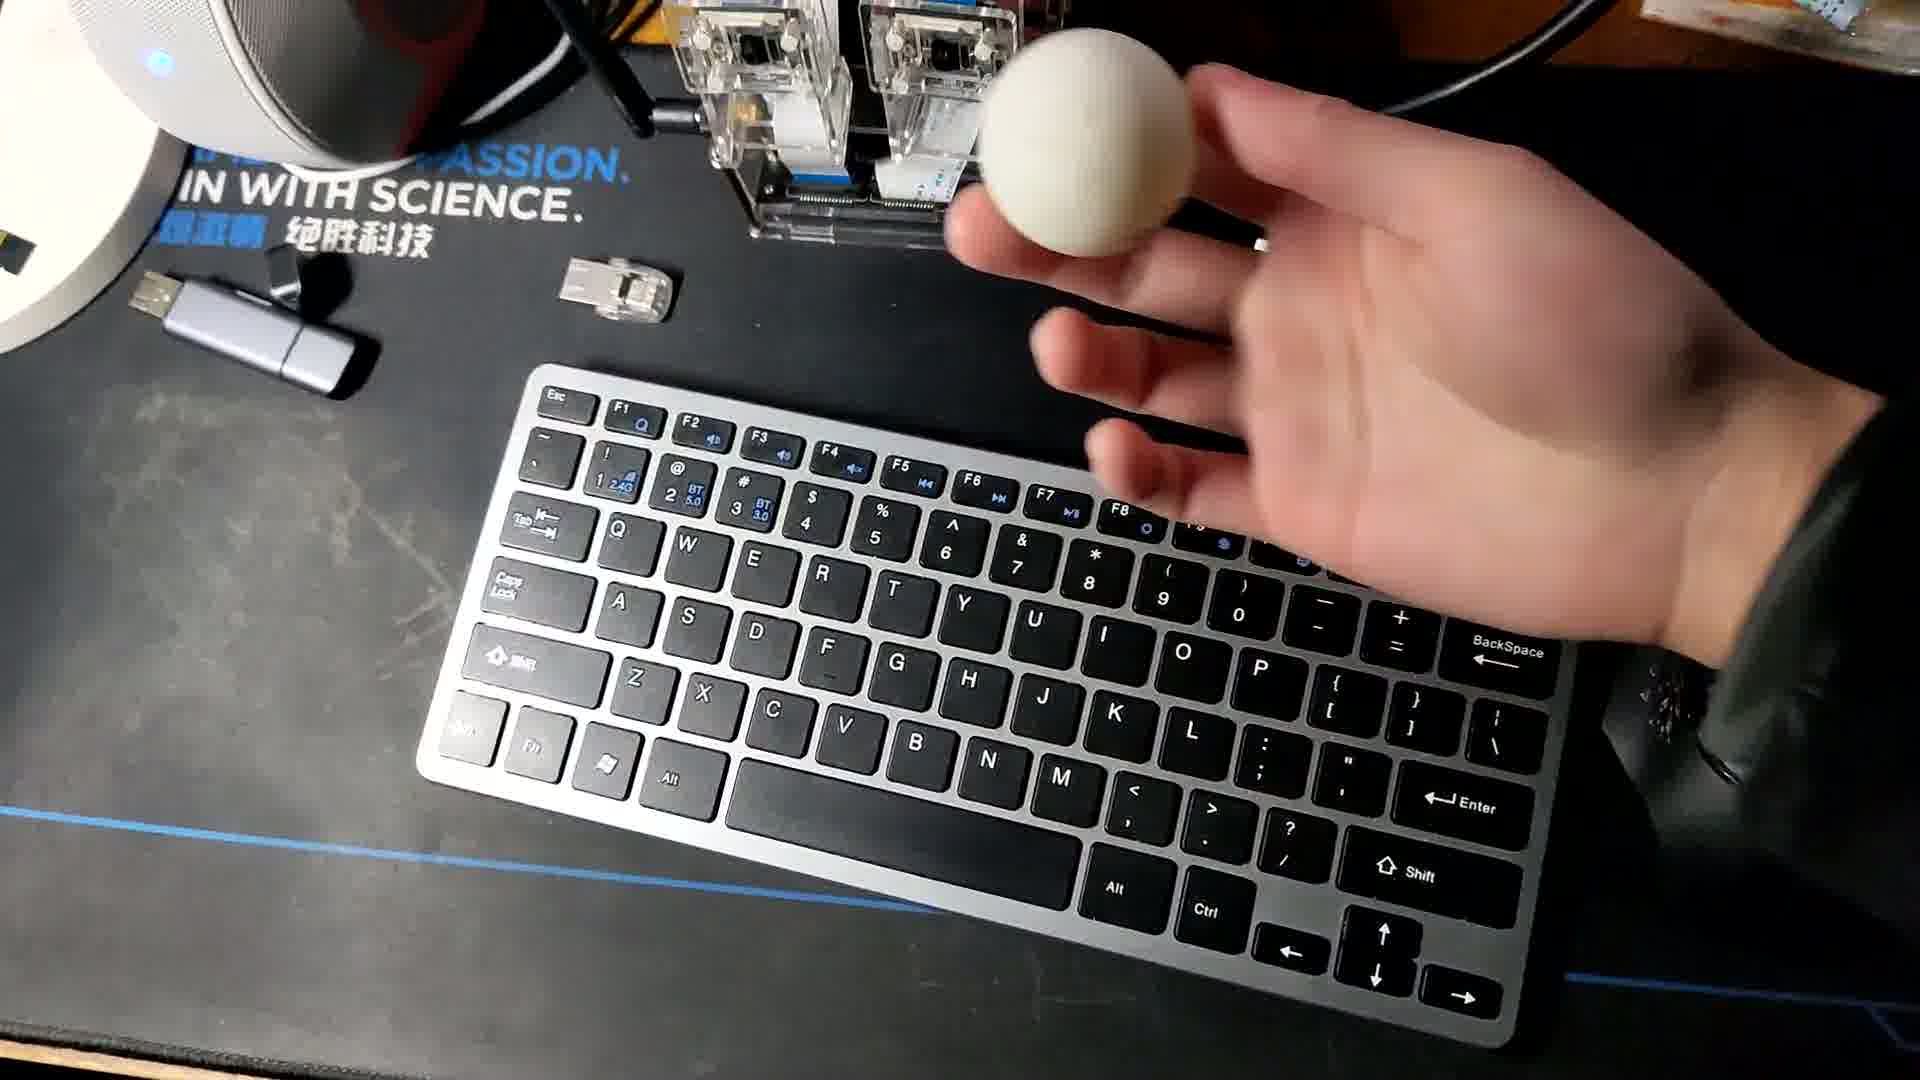Ball: (982, 22, 1188, 265)
